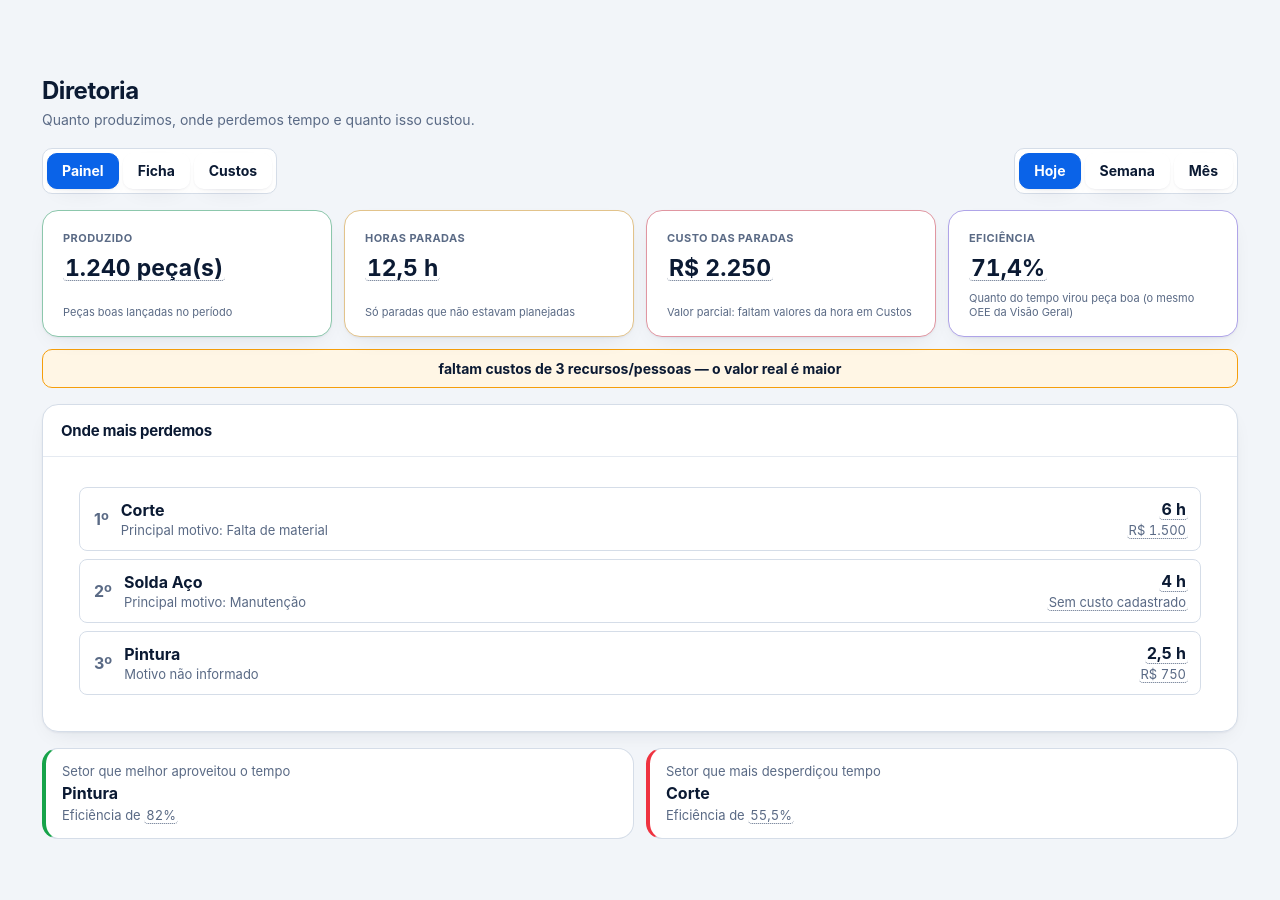
Aba Diretoria — Painel › clicar no setor do ranking abre a Ficha já filtrada no setor
Click the button with aria-label "Ver a ficha do setor Corte" at coordinates (143, 510), box [80,488,1115,550]
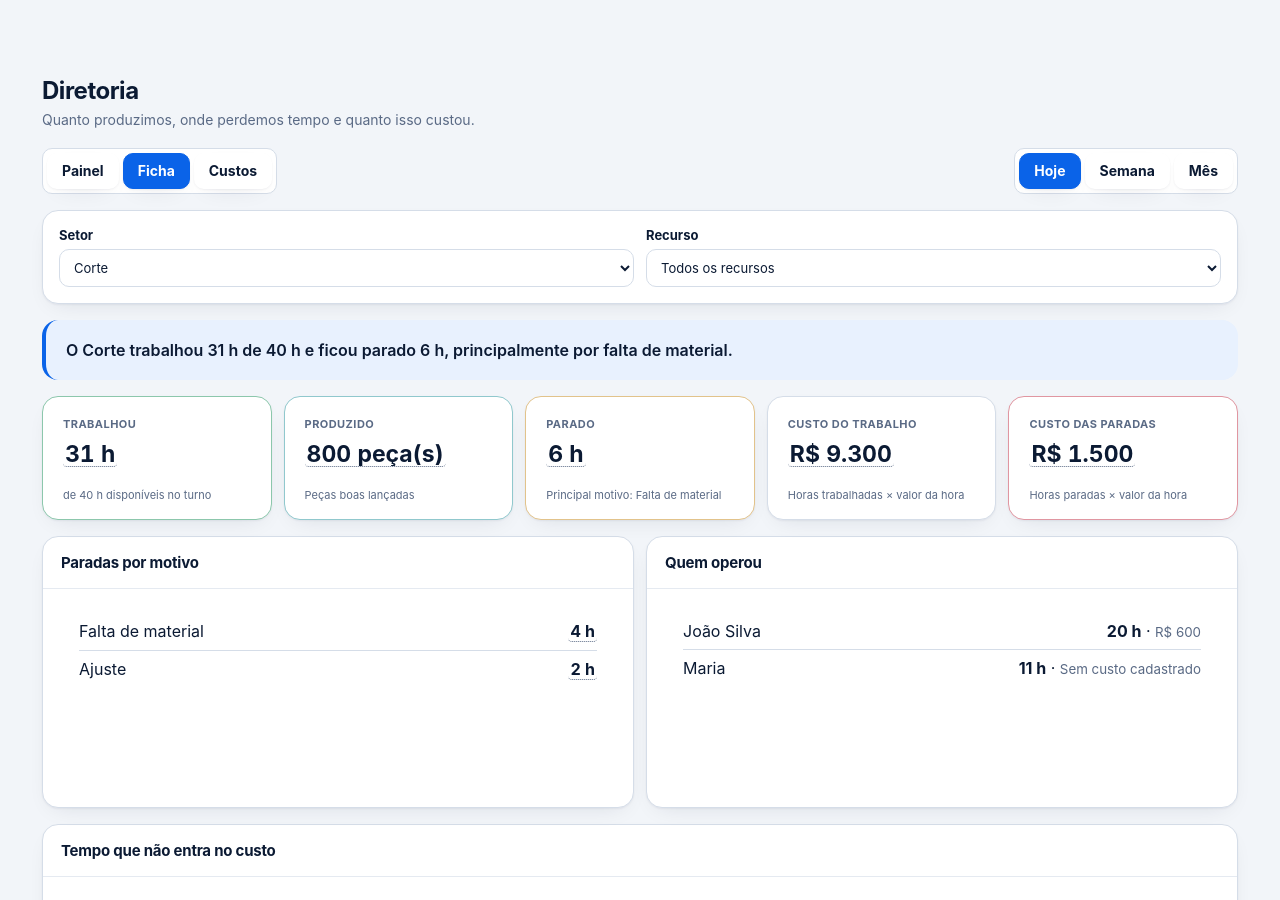
Expected: the text "O Corte trabalhou 31 h de 40 h e ficou parado 6 h, principalmente por falta de material." is shown, [66,340,733,360]
Expected: the dropdown labelled "Setor" shows "Corte", [59,249,634,287]
